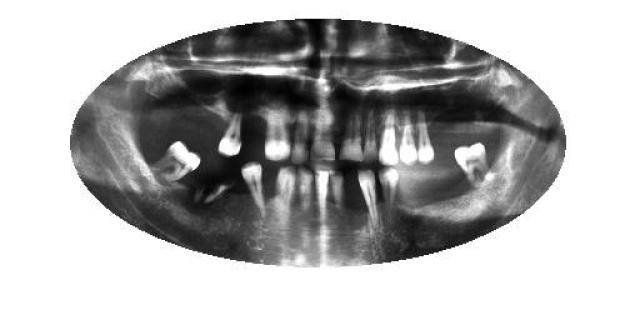Cavity: (192, 172, 238, 204)
